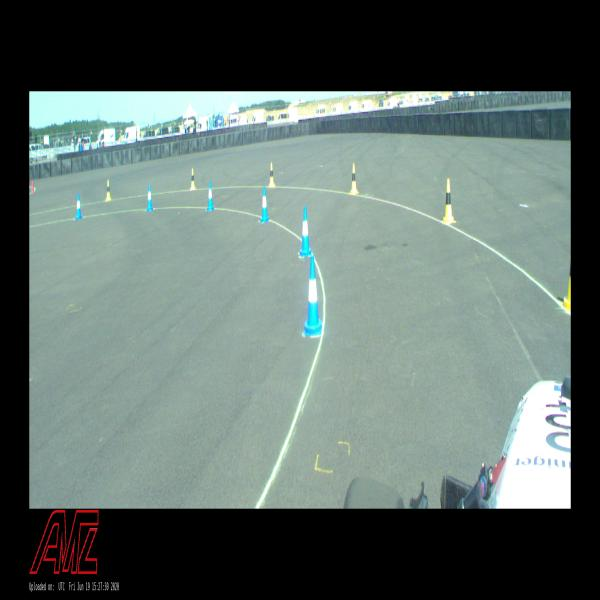blue_cone: (303, 256, 323, 336), (300, 206, 311, 256), (260, 186, 269, 223), (207, 181, 214, 211), (76, 193, 82, 220), (147, 185, 153, 211)
unknown_cone: (31, 180, 34, 193)
yellow_cone: (442, 179, 456, 224), (560, 261, 570, 313), (350, 164, 358, 194), (269, 162, 275, 187), (190, 168, 196, 190), (106, 180, 111, 201)
